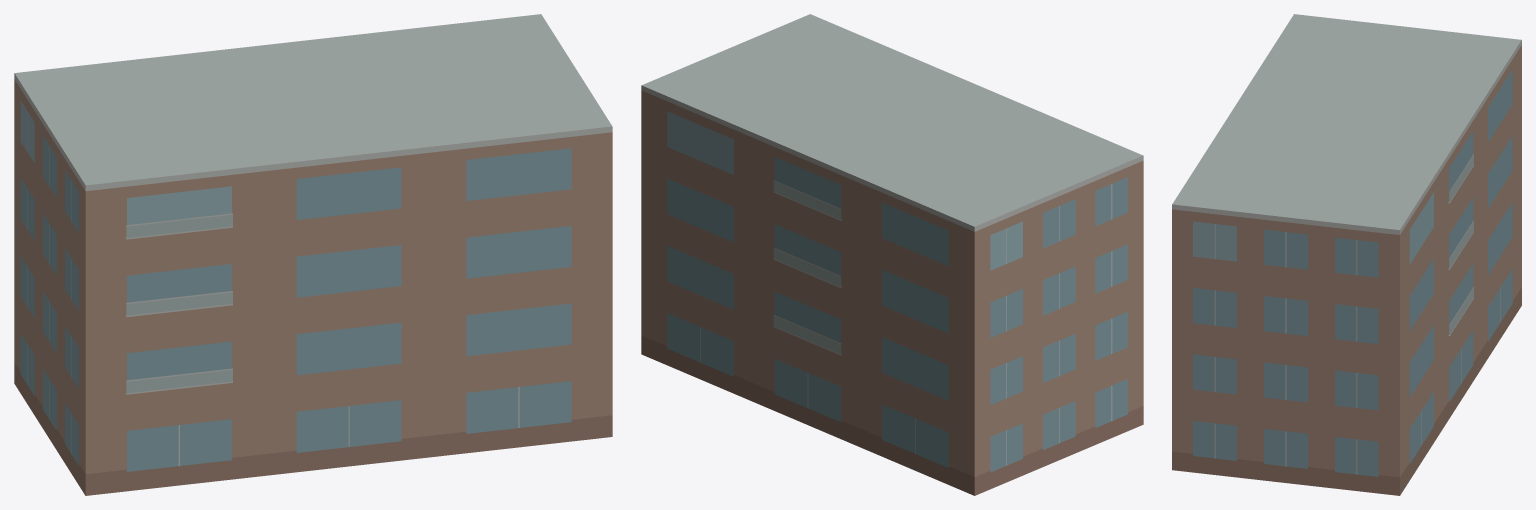
File: survey-upis-32708874.glb
The picture shows the model from 3 angles, left to right: view 1: azimuth 30°, elevation 25°; view 2: azimuth 150°, elevation 25°; view 3: azimuth 270°, elevation 25°; orthographic projection. The views are drawn at different scales.
Parts seen in each view (by area): view 1: survey-upis-32708874.tmp; view 2: survey-upis-32708874.tmp; view 3: survey-upis-32708874.tmp.
Boxes of the visible parts, box(x1,y1,x2,y2) form: survey-upis-32708874.tmp: box(14, 14, 612, 495); survey-upis-32708874.tmp: box(641, 14, 1143, 495); survey-upis-32708874.tmp: box(1172, 14, 1521, 495).
Bounding box in the file's own units: 22.86 × 13.1 × 15.64.
